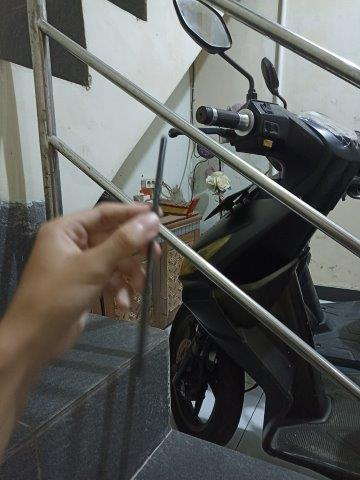sedotan: (134, 138, 166, 363)
